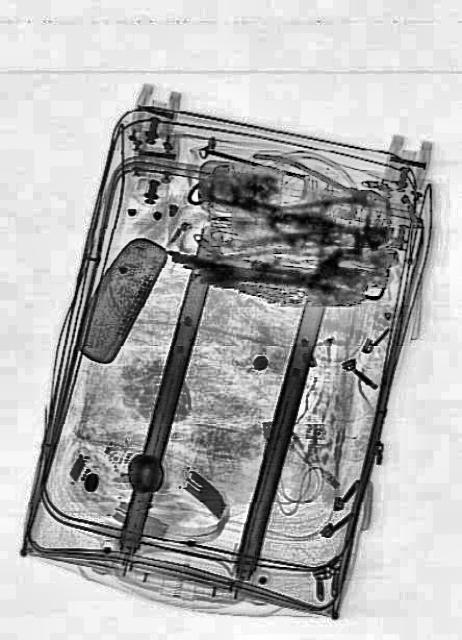Pliers: (250, 151, 386, 219)
